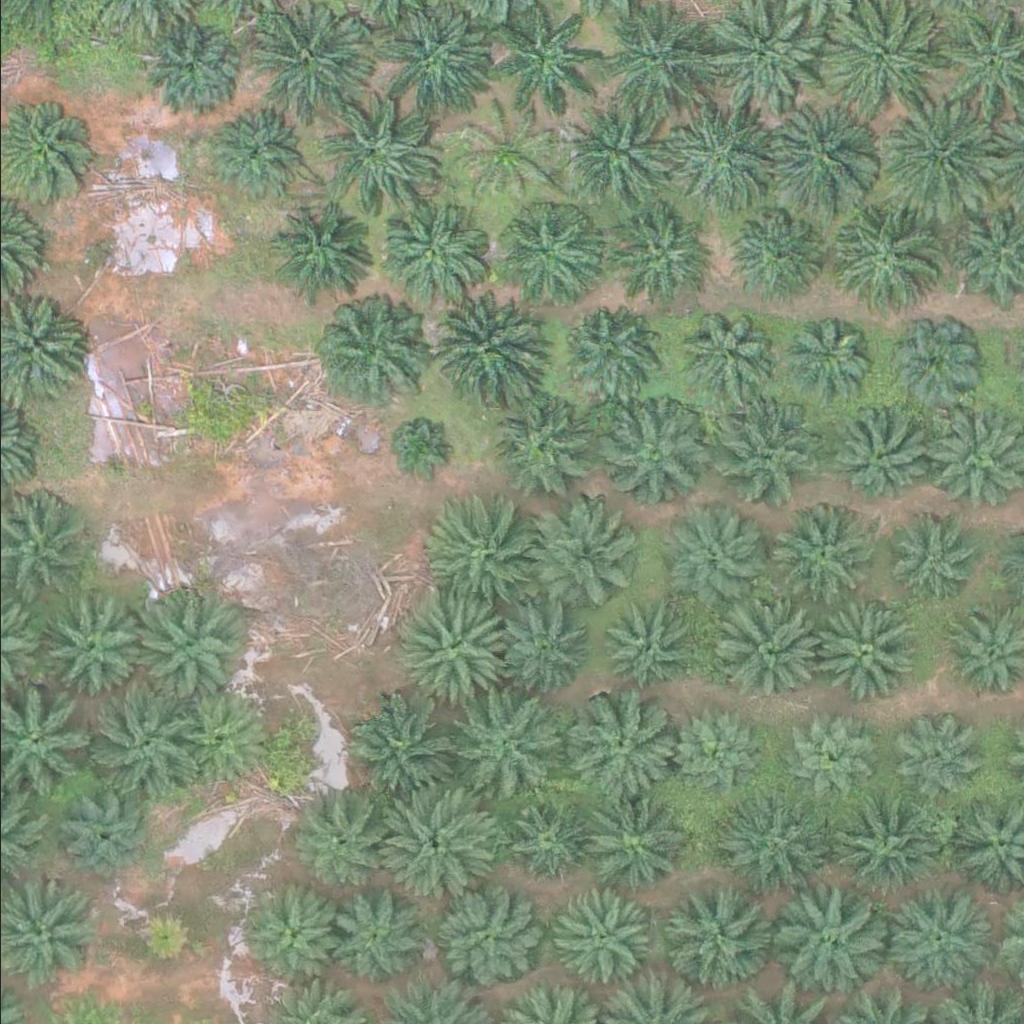Kelapa_Sawit: (250, 4, 364, 117), (765, 875, 878, 988), (460, 683, 573, 796), (343, 696, 456, 809), (396, 590, 509, 703), (655, 495, 768, 608), (536, 495, 649, 608), (422, 487, 535, 600), (127, 590, 240, 703), (595, 392, 708, 505), (426, 291, 539, 404), (377, 5, 490, 118), (882, 104, 995, 217), (822, 3, 935, 116), (561, 686, 675, 798), (761, 496, 875, 608), (375, 199, 489, 311), (664, 100, 778, 212), (551, 101, 665, 213), (829, 790, 943, 902), (767, 108, 881, 220), (660, 873, 773, 985), (712, 791, 825, 903), (572, 788, 685, 900), (384, 788, 497, 900), (709, 599, 822, 711), (87, 691, 200, 803), (712, 399, 825, 511), (310, 293, 423, 405), (321, 97, 434, 209), (490, 2, 603, 114), (605, 6, 718, 118), (877, 885, 990, 997), (808, 594, 921, 706), (817, 202, 930, 314), (546, 887, 647, 987), (434, 887, 535, 987), (325, 889, 426, 989), (286, 784, 387, 884), (489, 597, 590, 697), (602, 601, 703, 701), (169, 690, 270, 790), (35, 598, 136, 698), (488, 401, 589, 501), (556, 298, 657, 398), (460, 107, 561, 207), (142, 14, 243, 114), (873, 511, 974, 611), (881, 311, 982, 411), (240, 889, 340, 989), (270, 200, 370, 300), (599, 204, 699, 304), (498, 197, 598, 297), (197, 103, 297, 203), (827, 407, 927, 507), (501, 792, 589, 880), (671, 709, 759, 797), (62, 797, 150, 885), (682, 309, 770, 397), (728, 206, 816, 294), (886, 717, 974, 805), (785, 312, 873, 400), (781, 712, 869, 799), (385, 411, 460, 486), (129, 902, 192, 965)
